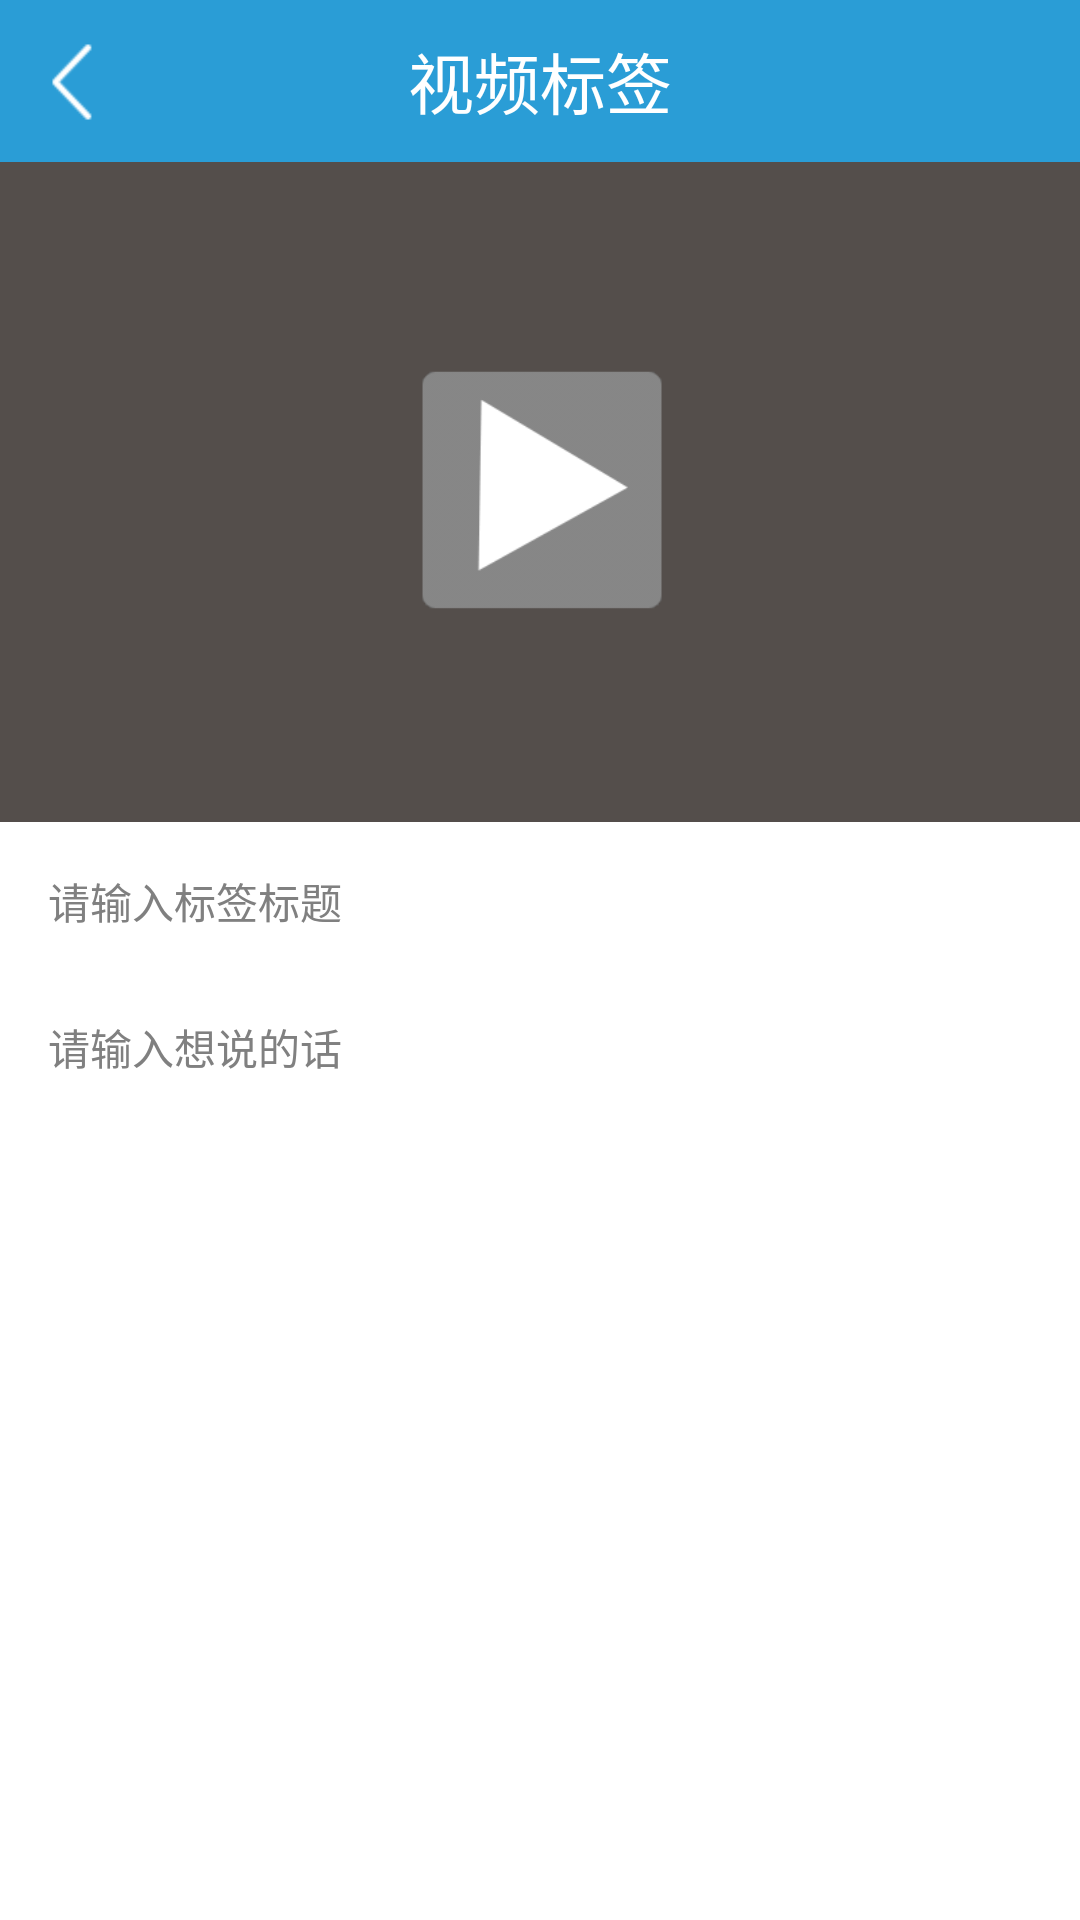

Where icons sit on this 1080*1920 app screen, as (x1, y1, x2, y2):
vedio pre play: (422, 372, 662, 608)
